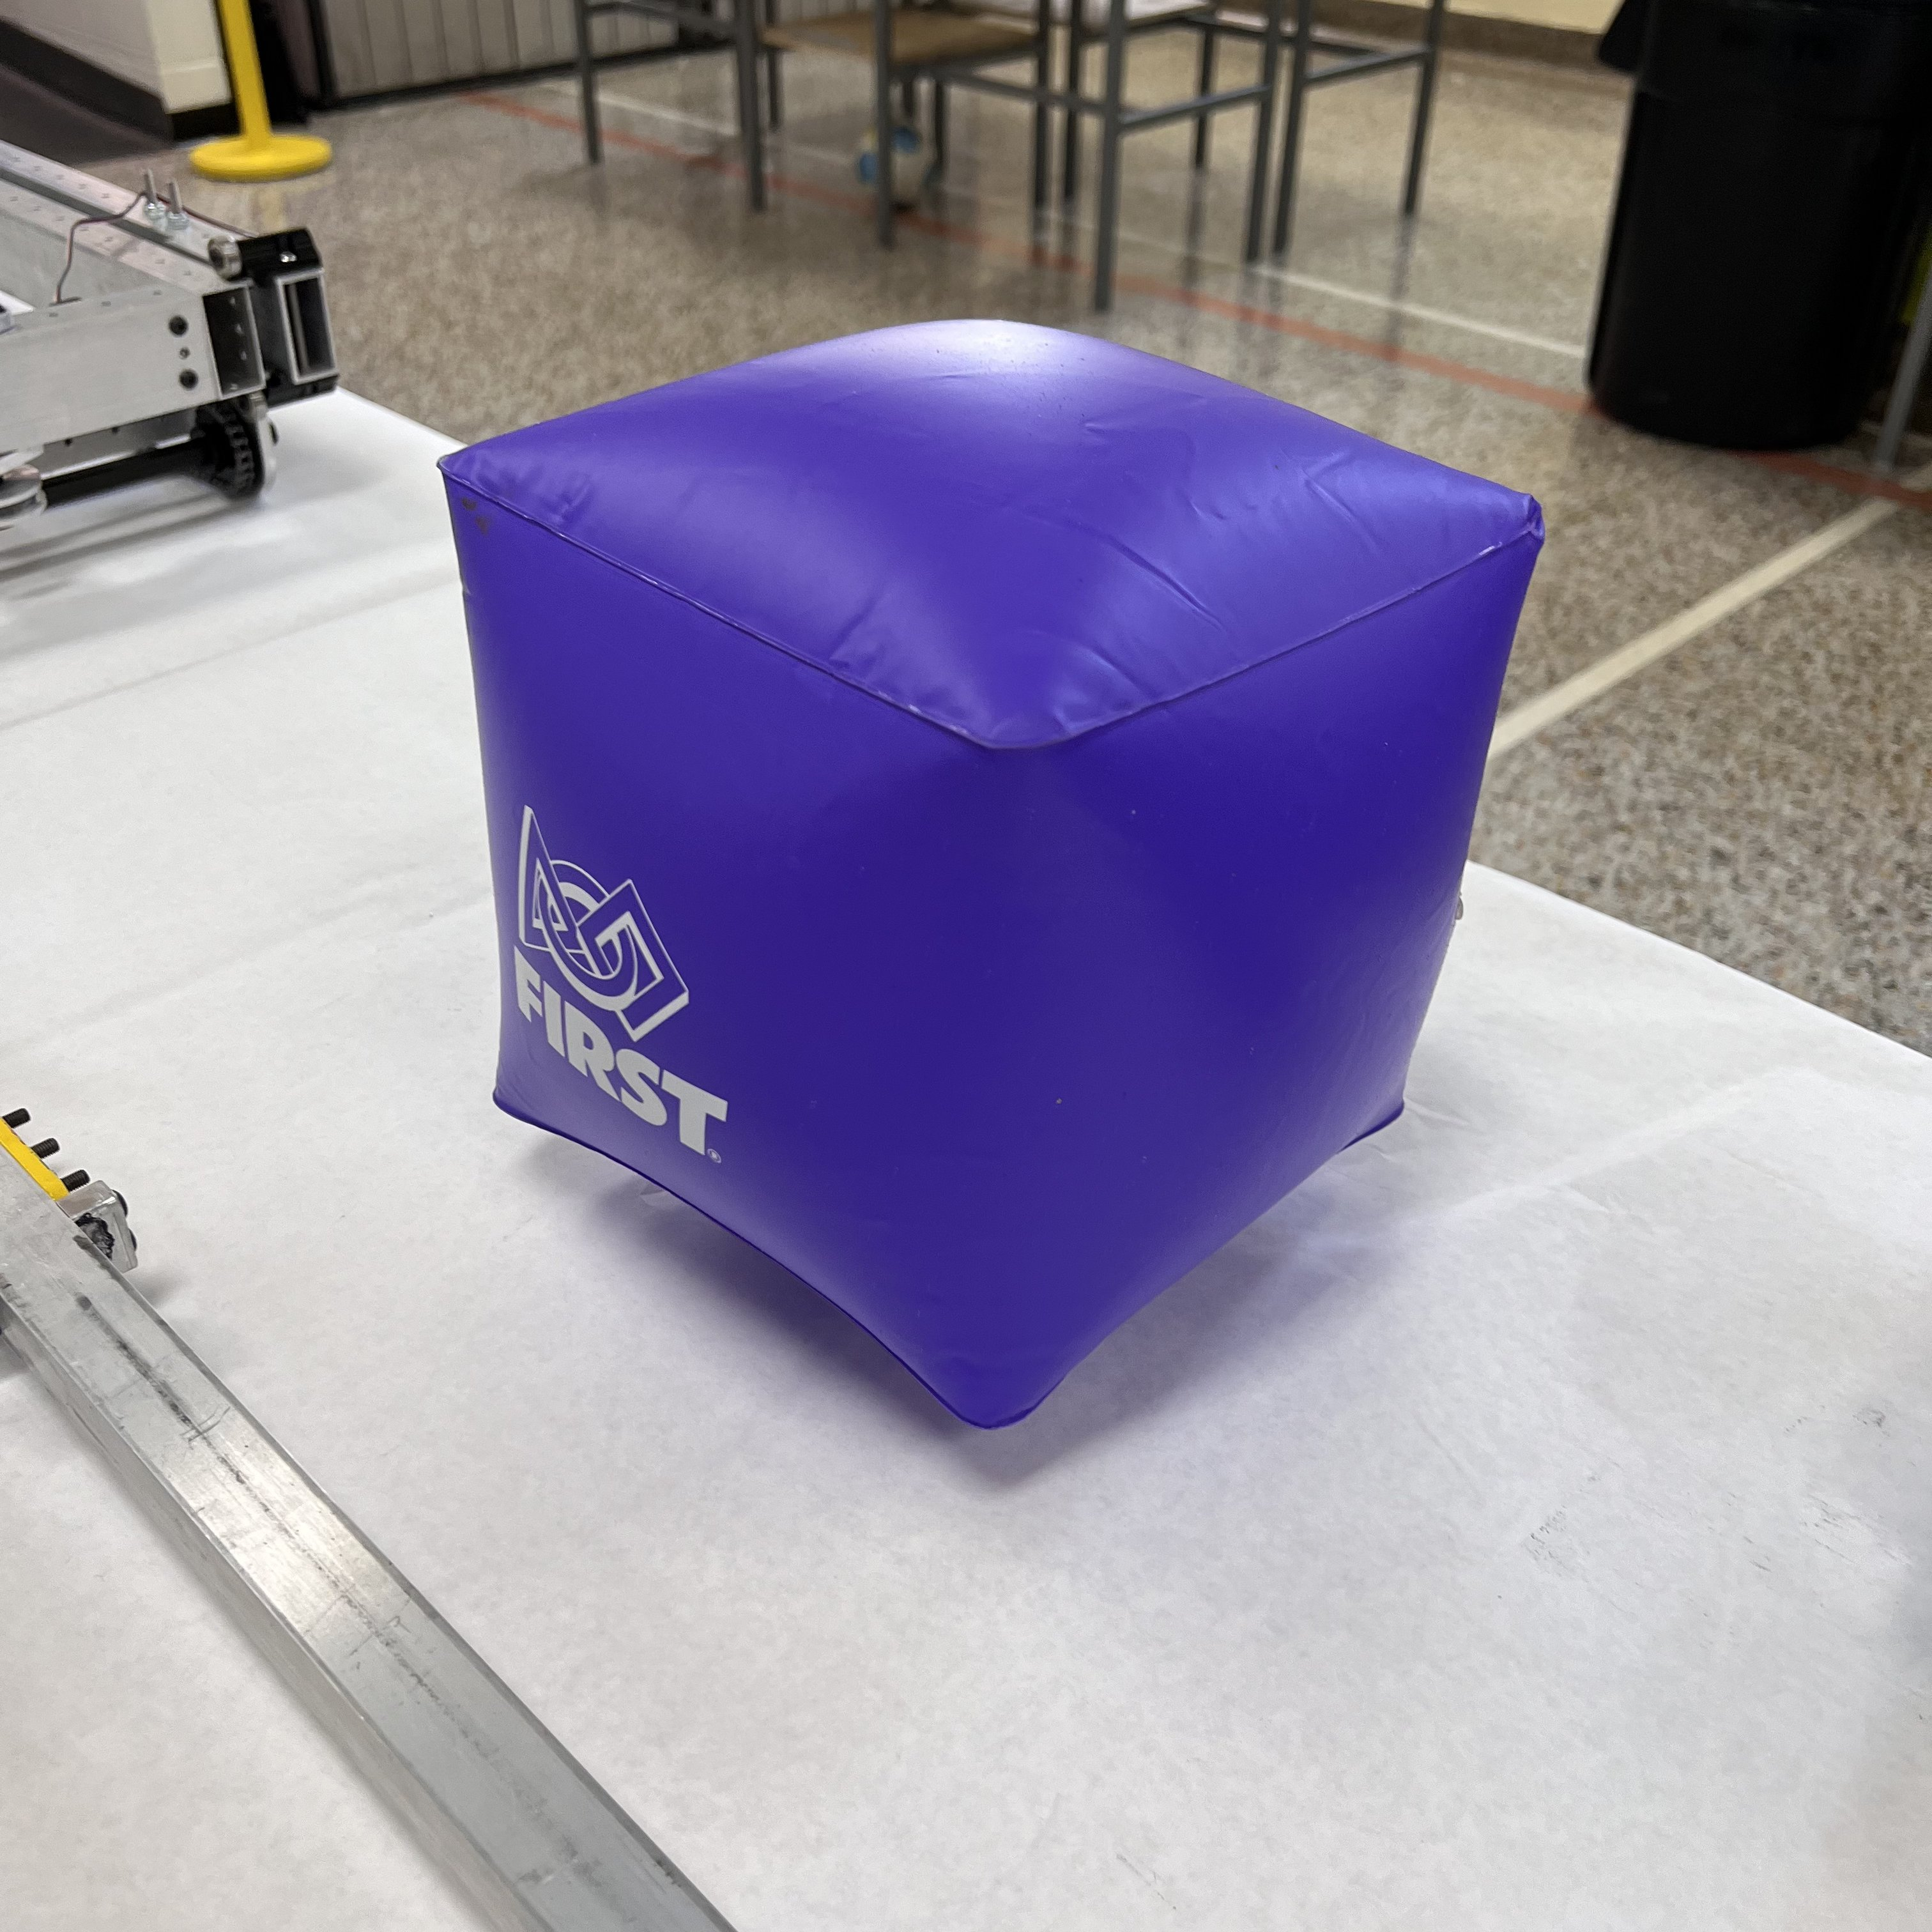cube: (439, 317, 1543, 1426)
